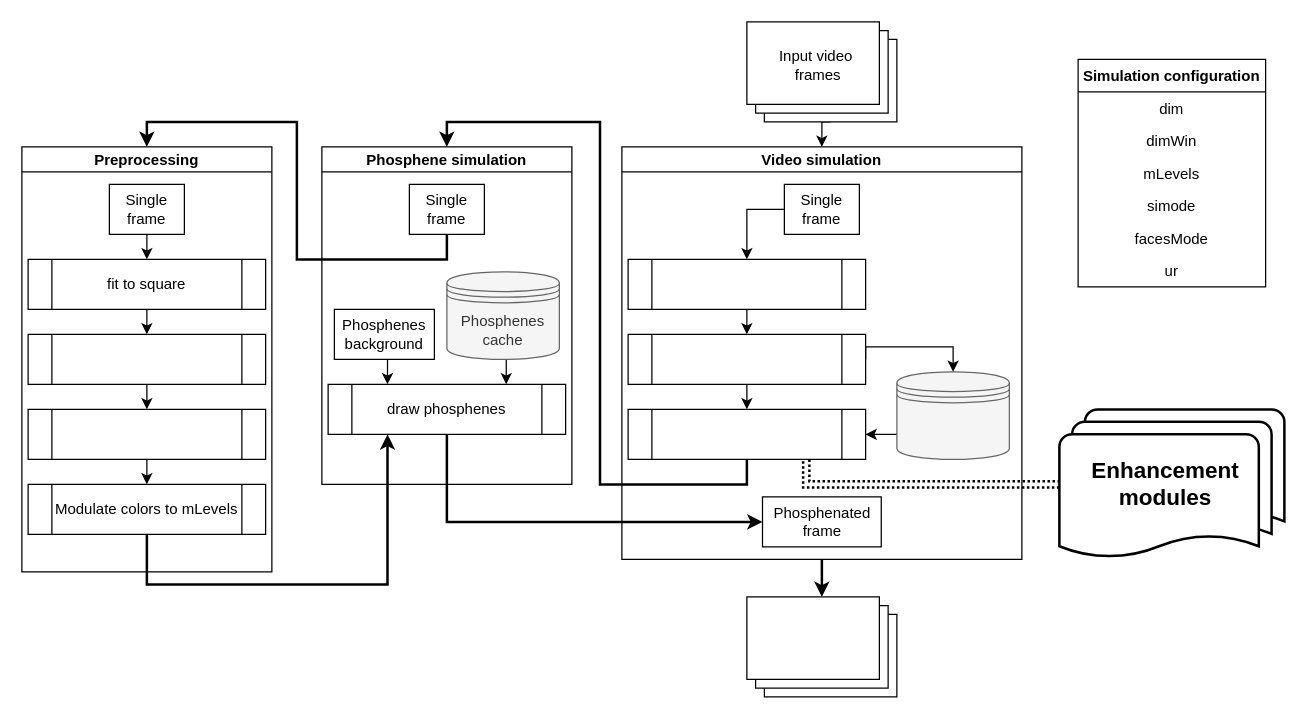
Image size: 1308x719. Some labels were removed from this diagram. Each missing label, with the centre of its shape:
"apply bounding boxes" goes at point 746,433.
"Apply global histogram equalization" goes at point 146,433.
"Bounding boxes" goes at point 952,415.
"Convert to grayscale" goes at point 746,283.
"Output phosphenated video" goes at point 821,646.
"resize to dim × dim" goes at point 146,358.
"update bounding boxes" goes at point 746,358.
